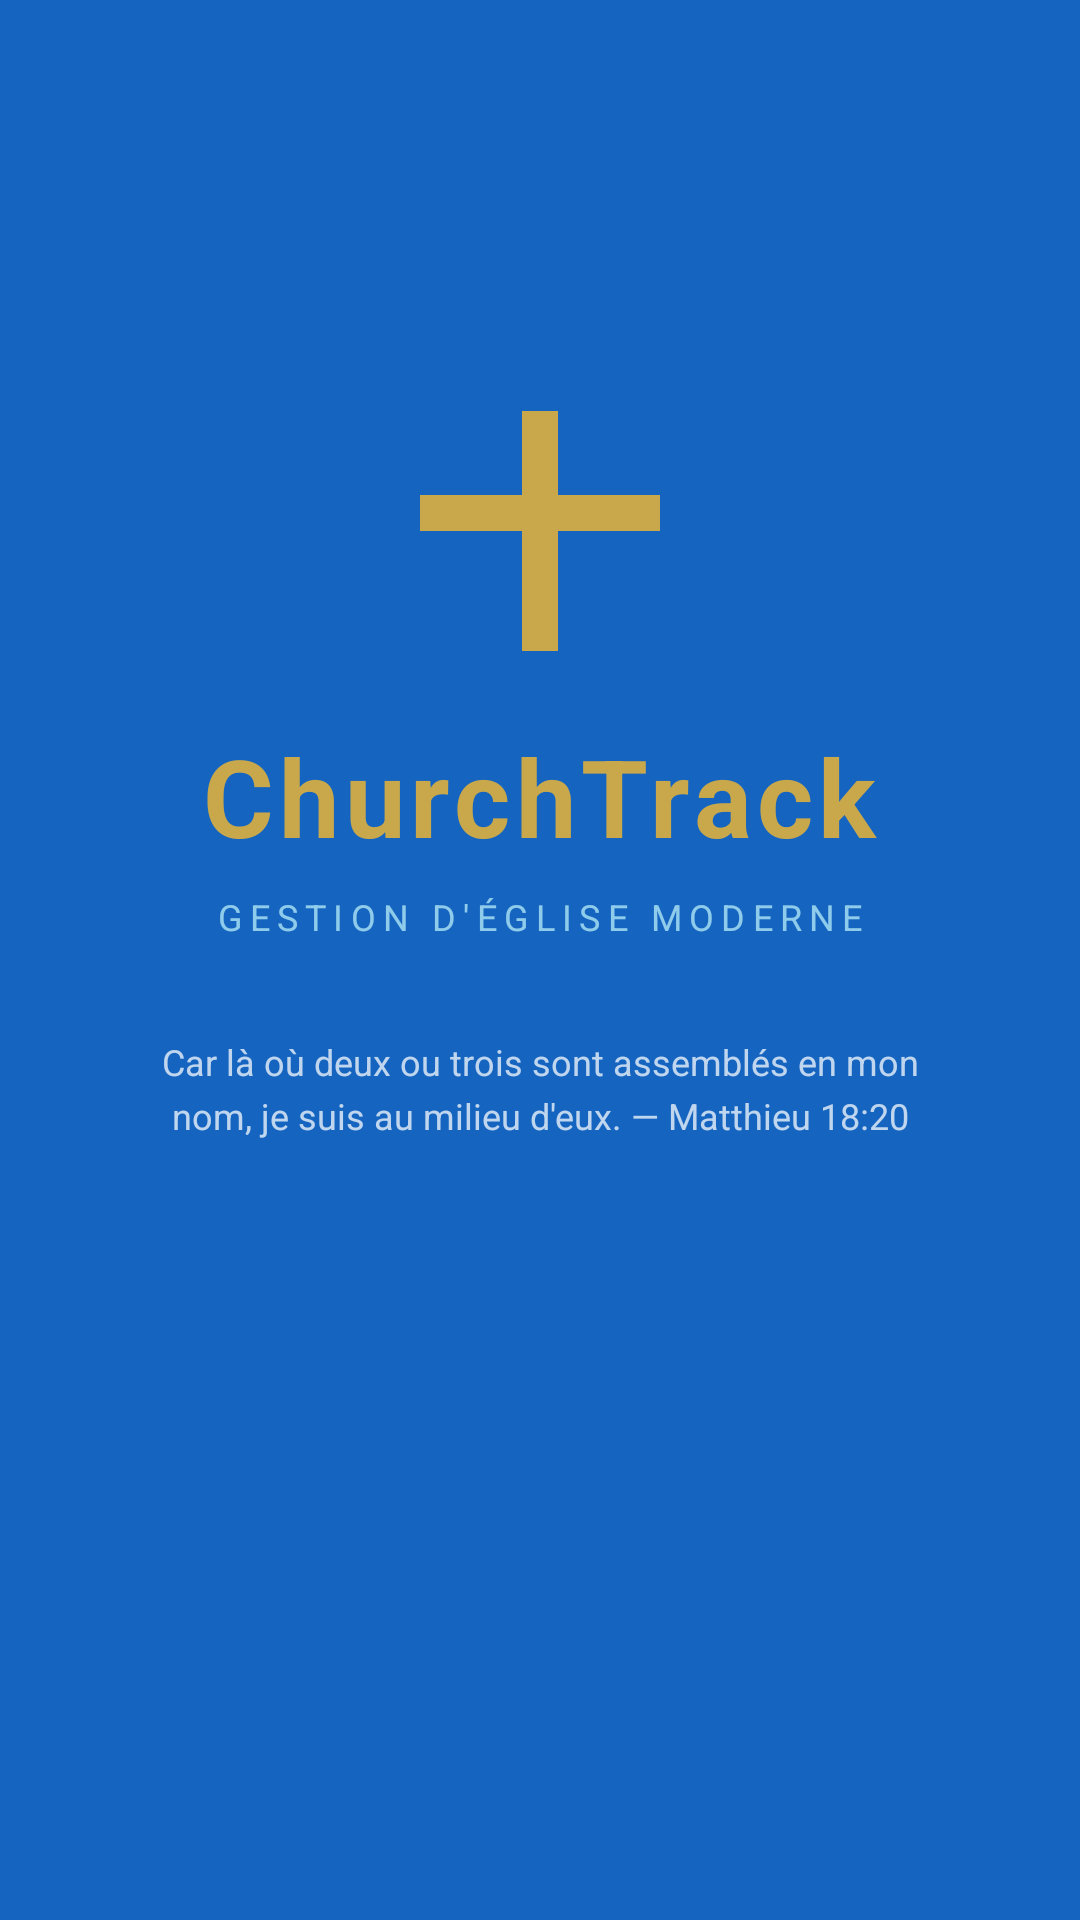

Screen size 1080 x 1920. Icon name, then its box in pixels as (x1,y1,x2,y2):
cross: (420,411,660,651)
